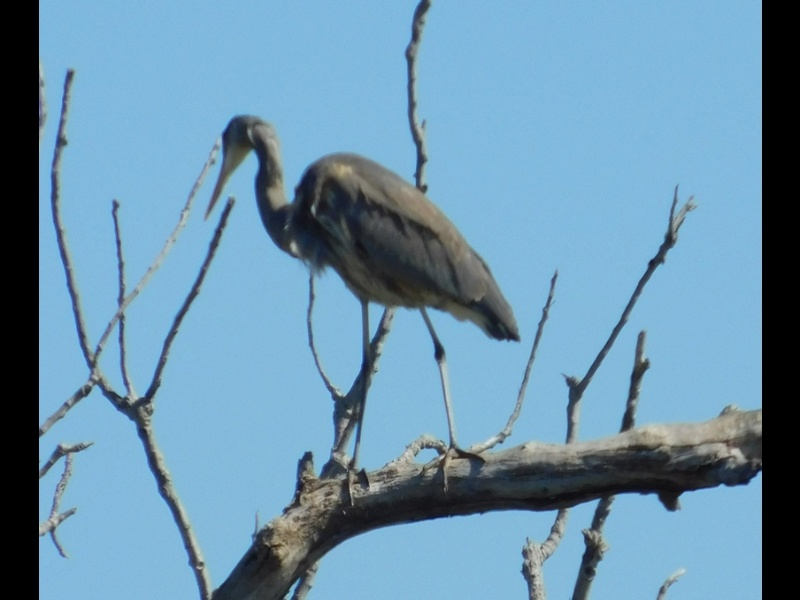heron: (202, 111, 523, 497)
